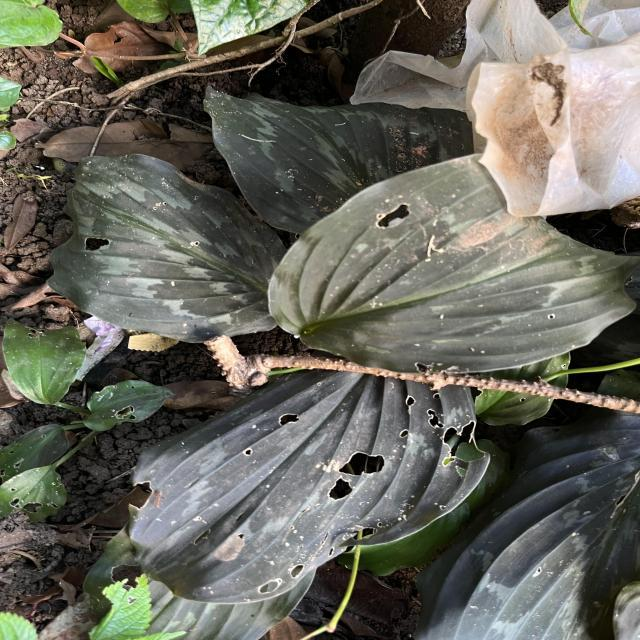Kaempferia galanga linn: (42, 149, 292, 345), (199, 83, 477, 236)
